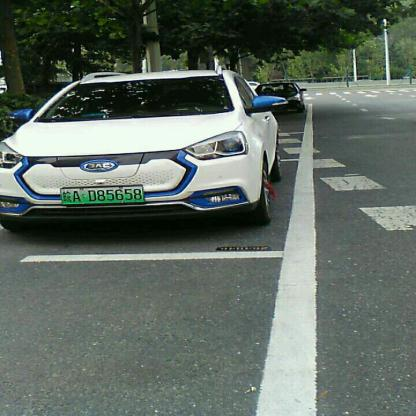lp: (60, 185, 144, 206)
